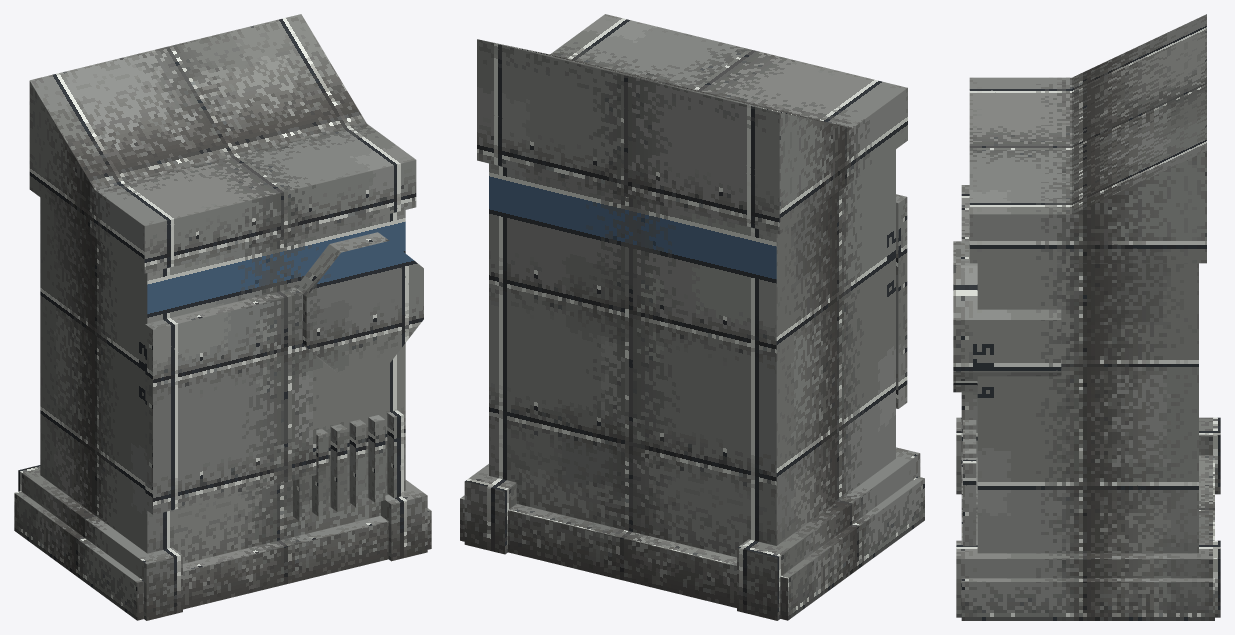
Rendered from prop_machinery_unit.glb.
3 views of the same model, side by side, from view 1: azimuth 30°, elevation 25°; view 2: azimuth 150°, elevation 25°; view 3: azimuth 270°, elevation 25° (orthographic). The views are drawn at different scales.
Visible parts, largest first — view 1: prop_machinery_unit; view 2: prop_machinery_unit; view 3: prop_machinery_unit.
Boxes of the visible parts, x1,y1,x2,y2 form: prop_machinery_unit: [14, 14, 431, 620]; prop_machinery_unit: [460, 14, 924, 620]; prop_machinery_unit: [953, 14, 1220, 620].
Size of the model in its own units: 1.3 by 1.9 by 0.99.
Materials: 1 (1 with a texture image).
